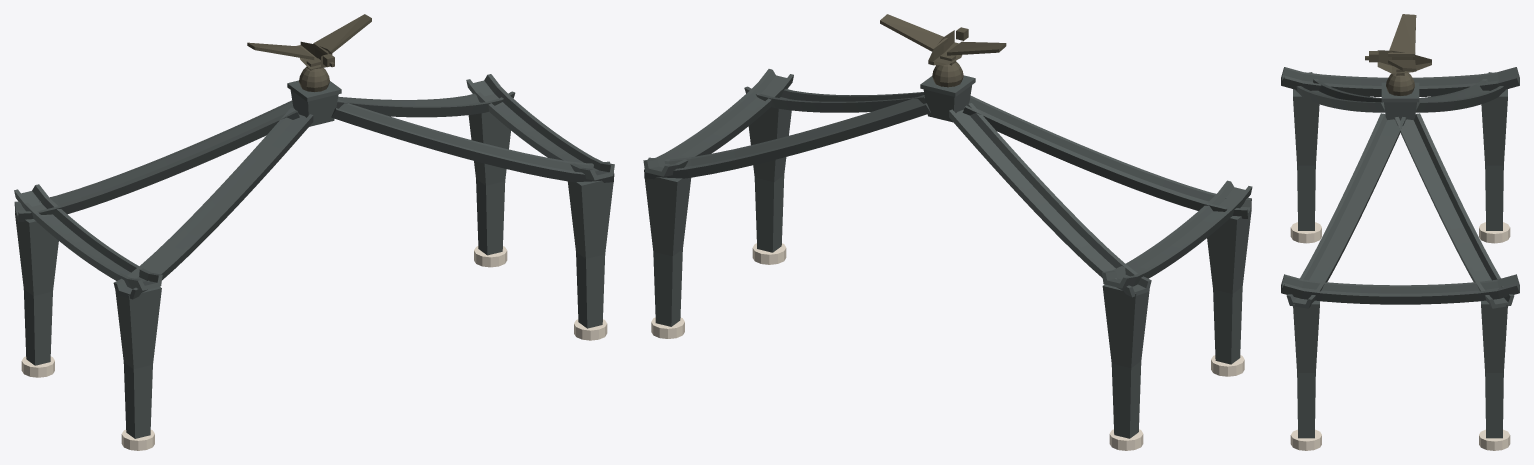
File: slc-eagle-gate.glb
3 views of the same model, side by side, from view 1: azimuth 30°, elevation 25°; view 2: azimuth 150°, elevation 25°; view 3: azimuth 270°, elevation 25° (orthographic). The views are drawn at different scales.
Parts seen in each view (by area): view 1: Eagle Gate; view 2: Eagle Gate; view 3: Eagle Gate.
Part boxes in pixels (x1,y1,x2,y2): Eagle Gate: [14, 14, 614, 450]; Eagle Gate: [643, 14, 1252, 450]; Eagle Gate: [1281, 14, 1519, 450].
Bounding box in the file's own units: 25.79 × 15.83 × 11.43.
